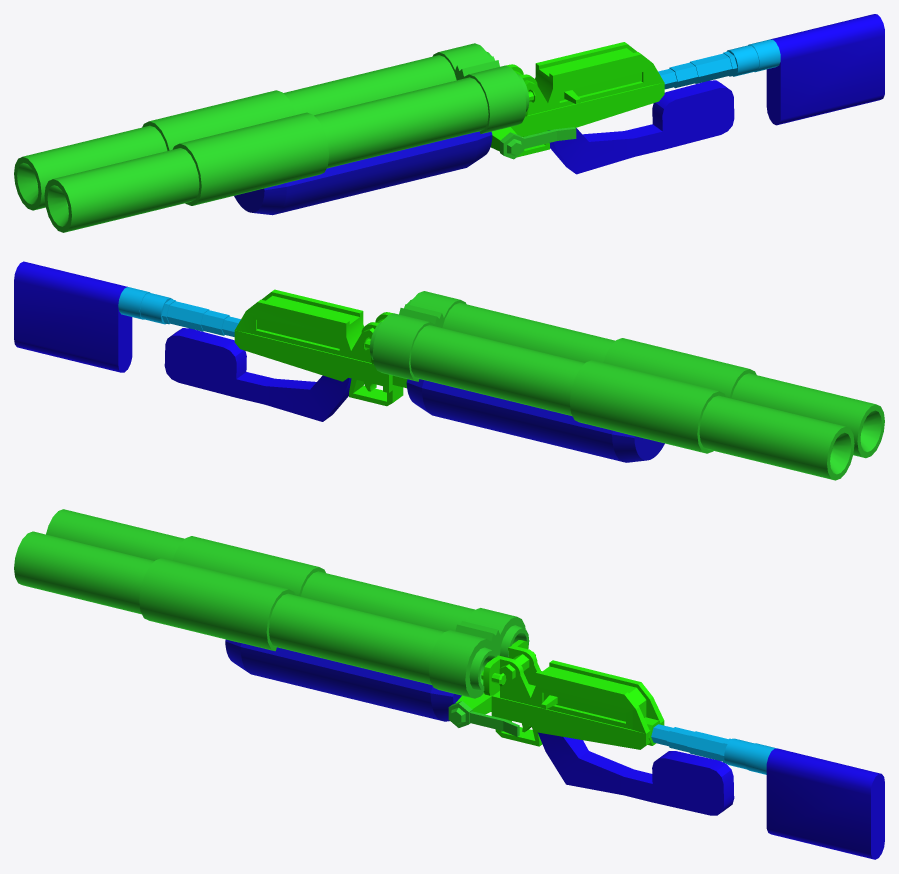
Rendered from ruzhe1.fbx.
3 renders of one model, top to bottom at view 1: azimuth 30°, elevation 25°; view 2: azimuth 150°, elevation 25°; view 3: azimuth 330°, elevation 25°, orthographic.
Visible parts, largest first — view 1: Cylinder.005, Cube; view 2: Cylinder.005, Cube; view 3: Cylinder.005, Cube.
Part boxes in pixels (box(x1,y1,x2,y2)): Cylinder.005: box(14, 43, 576, 232); Cube: box(490, 14, 884, 174); Cylinder.005: box(369, 291, 884, 480); Cube: box(14, 261, 407, 421); Cylinder.005: box(14, 509, 529, 736); Cube: box(456, 640, 884, 859).
Size of the model in its own units: 3168 by 496 by 410.
